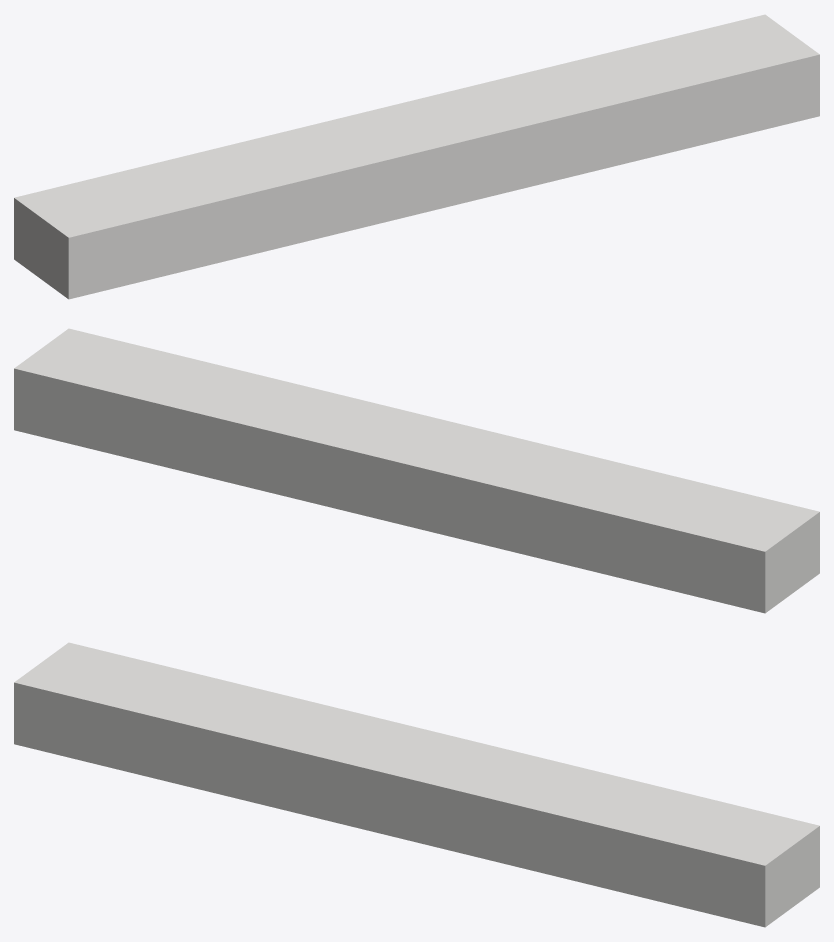
File: Lamp.FBX
3 renders of one model, top to bottom at view 1: azimuth 30°, elevation 25°; view 2: azimuth 150°, elevation 25°; view 3: azimuth 330°, elevation 25°, orthographic.
Parts seen in each view (by area): view 1: Lamp_008; view 2: Lamp_008; view 3: Lamp_008.
Part boxes in pixels (box(x1,y1,x2,y2)): Lamp_008: box(14, 14, 819, 299); Lamp_008: box(14, 328, 819, 613); Lamp_008: box(14, 642, 819, 927).
Size of the model in its own units: 55.69 by 4.37 by 7.03.
